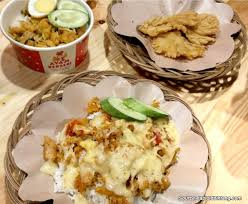ayam_geprek: (57, 113, 178, 198)
